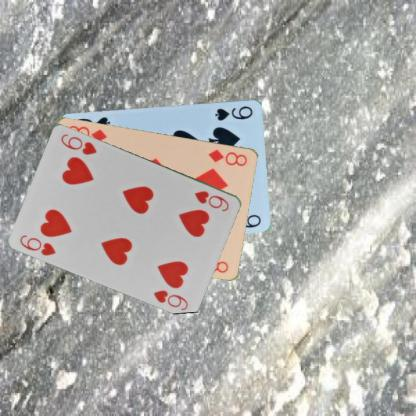6h: (17, 232, 58, 257), (192, 188, 230, 212)
8d: (206, 146, 248, 167)
9s: (213, 103, 254, 121)
